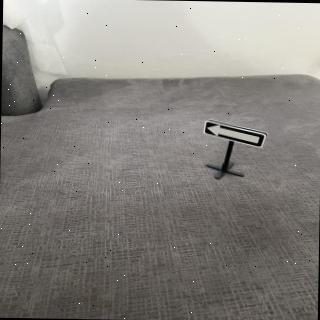sign_oneway_left: (201, 118, 269, 151)
